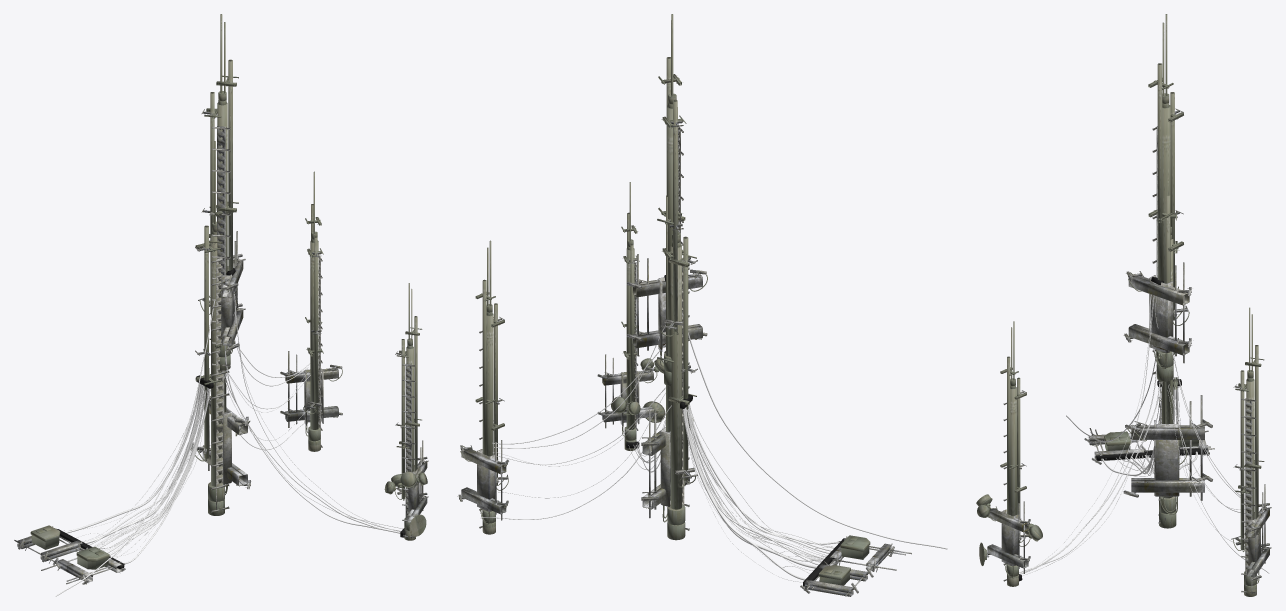
Rendered from cell tower 1.glb.
The picture shows the model from 3 angles, left to right: view 1: azimuth 30°, elevation 25°; view 2: azimuth 150°, elevation 25°; view 3: azimuth 270°, elevation 25°; orthographic projection. The views are drawn at different scales.
Parts seen in each view (by area): view 1: Cell Tower 3; view 2: Cell Tower 3; view 3: Cell Tower 3.
Part boxes in pixels (<box>): Cell Tower 3: <box>14,14,428,596</box>; Cell Tower 3: <box>457,14,947,596</box>; Cell Tower 3: <box>976,14,1271,596</box>.
Bounding box in the file's own units: 7 × 8.91 × 4.6.
Materials: 5 (3 with a texture image).
